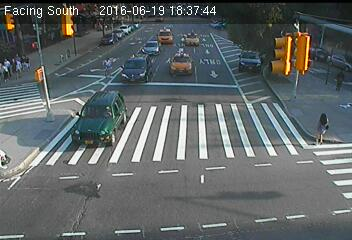neg: (148, 44, 175, 80), (270, 57, 294, 88), (129, 38, 151, 66), (227, 43, 247, 69), (312, 58, 331, 83), (82, 37, 99, 60), (183, 59, 192, 72)
pos: (310, 112, 335, 145), (333, 65, 351, 93), (10, 59, 26, 80)
